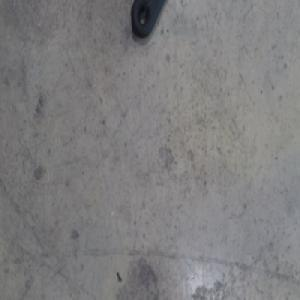AdjustableWrench: (131, 0, 165, 40)
